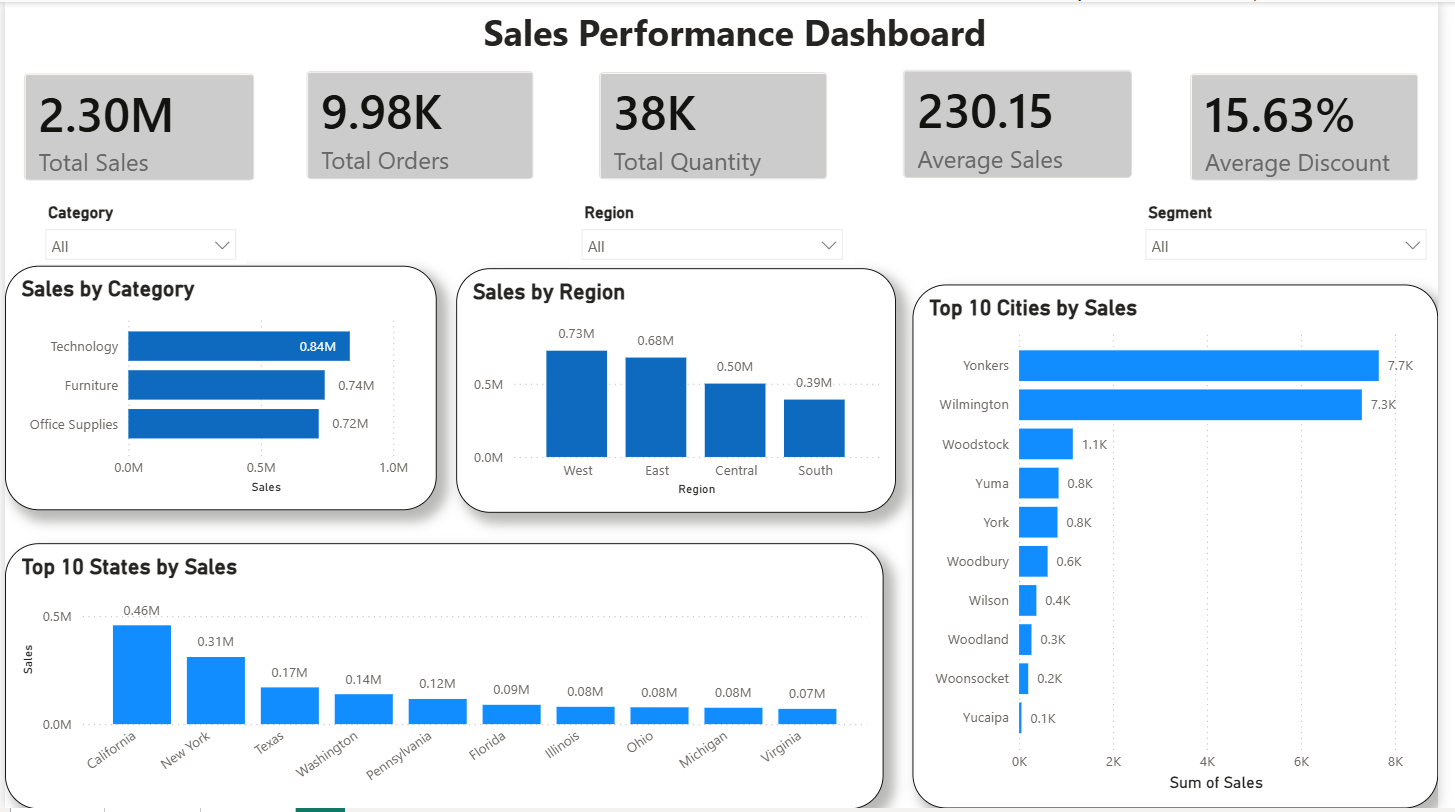

This screenshot's page, from the dashboard's own definition file:
{"tool":"powerbi","page":{"name":"Page 1","canvas":[1280,720],"ordinal":0},"visuals":[{"type":"cardVisual","fields":{"Data":["SampleSuperstore_Feature_Engineered.Total Orders"]},"box":[252,44.6,237.6,131.1],"z":0},{"type":"cardVisual","fields":{"Data":["SampleSuperstore_Feature_Engineered.Total Quantity"]},"box":[513.2,45.3,238.8,130.4],"z":1000},{"type":"cardVisual","fields":{"Data":["SampleSuperstore_Feature_Engineered.Total Sales"]},"box":[0,46.7,240.1,130.4],"z":2000},{"type":"clusteredBarChart","title":"Sales by Category","fields":{"Category":["SampleSuperstore_Feature_Engineered.Category"],"Y":["Sum(SampleSuperstore_Feature_Engineered.Sales)"]},"box":[0,236,385.6,218.2],"z":3000},{"type":"clusteredColumnChart","title":"Sales by Region","fields":{"Category":["SampleSuperstore_Feature_Engineered.Region"],"Y":["Sum(SampleSuperstore_Feature_Engineered.Sales)"]},"box":[403.4,237.4,392.5,218.2],"z":4000},{"type":"clusteredColumnChart","title":"Top 10 States by Sales","fields":{"Category":["SampleSuperstore_Feature_Engineered.State"],"Y":["Sum(SampleSuperstore_Feature_Engineered.Sales)"]},"box":[0,483,784.9,237.4],"z":5000},{"type":"textbox","box":[23.3,0,1257,59],"z":6000},{"type":"slicer","fields":{"Values":["SampleSuperstore_Feature_Engineered.Category"]},"box":[26.1,174.3,190.7,60.4],"z":7000},{"type":"slicer","fields":{"Values":["SampleSuperstore_Feature_Engineered.Region"]},"box":[505,174.3,253.9,60.4],"z":8000},{"type":"slicer","fields":{"Values":["SampleSuperstore_Feature_Engineered.Segment"]},"box":[1008.6,174.3,271.7,60.4],"z":9000},{"type":"cardVisual","fields":{"Data":["SampleSuperstore_Feature_Engineered.Average Sales"]},"box":[784.9,43.2,239.1,131.1],"z":10000},{"type":"cardVisual","fields":{"Data":["SampleSuperstore_Feature_Engineered.Average Discount"]},"box":[1041.5,46.7,238.8,130.4],"z":11000},{"type":"clusteredBarChart","title":"Top 10 Cities by Sales","fields":{"Category":["SampleSuperstore_Feature_Engineered.City"],"Y":["Sum(SampleSuperstore_Feature_Engineered.Sales)"]},"box":[811,252.5,469.3,467.9],"z":12000}]}

Visuals, with their boxes in screenshot pixels (x1, y1, x2, y2), scaled from the page's 1280x720 canvas onto the 1455x812 screenshot:
cardVisual - SampleSuperstore_Feature_Engineered.Total Orders: l=286, t=50, r=557, b=198
cardVisual - SampleSuperstore_Feature_Engineered.Total Quantity: l=583, t=51, r=855, b=198
cardVisual - SampleSuperstore_Feature_Engineered.Total Sales: l=0, t=53, r=273, b=200
"Sales by Category" clusteredBarChart: l=0, t=266, r=438, b=512
"Sales by Region" clusteredColumnChart: l=459, t=268, r=905, b=514
"Top 10 States by Sales" clusteredColumnChart: l=0, t=545, r=892, b=811
textbox: l=26, t=0, r=1454, b=67
slicer - SampleSuperstore_Feature_Engineered.Category: l=30, t=197, r=246, b=265
slicer - SampleSuperstore_Feature_Engineered.Region: l=574, t=197, r=863, b=265
slicer - SampleSuperstore_Feature_Engineered.Segment: l=1146, t=197, r=1454, b=265
cardVisual - SampleSuperstore_Feature_Engineered.Average Sales: l=892, t=49, r=1164, b=197
cardVisual - SampleSuperstore_Feature_Engineered.Average Discount: l=1184, t=53, r=1454, b=200
"Top 10 Cities by Sales" clusteredBarChart: l=922, t=285, r=1454, b=811
